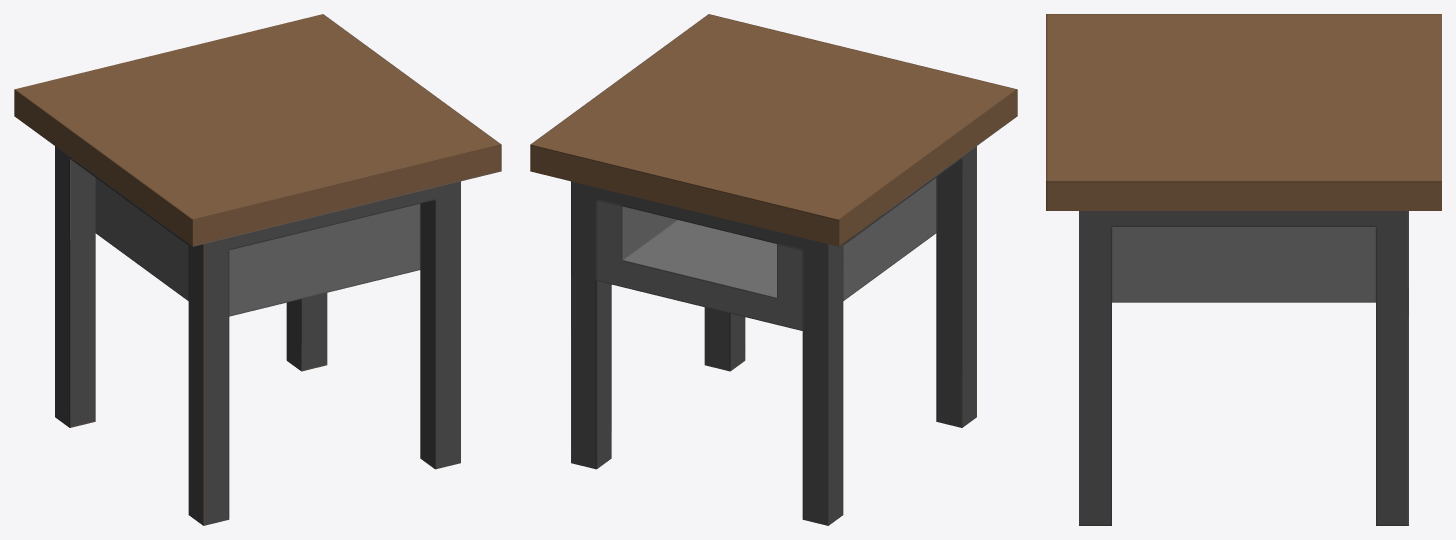
File: Desk_14.fbx
3 renders of one model, left to right at view 1: azimuth 30°, elevation 25°; view 2: azimuth 150°, elevation 25°; view 3: azimuth 270°, elevation 25°, orthographic. The views are drawn at different scales.
Parts seen in each view (by area): view 1: Desk_14.001; view 2: Desk_14.001; view 3: Desk_14.001.
Boxes of the visible parts, x1=… form: Desk_14.001: x1=14, y1=14, x2=501, y2=525; Desk_14.001: x1=530, y1=14, x2=1017, y2=525; Desk_14.001: x1=1046, y1=14, x2=1441, y2=525.
Bounding box in the file's own units: 1.2 × 1.2 × 1.2.
Materials: 1 (1 with a texture image).
